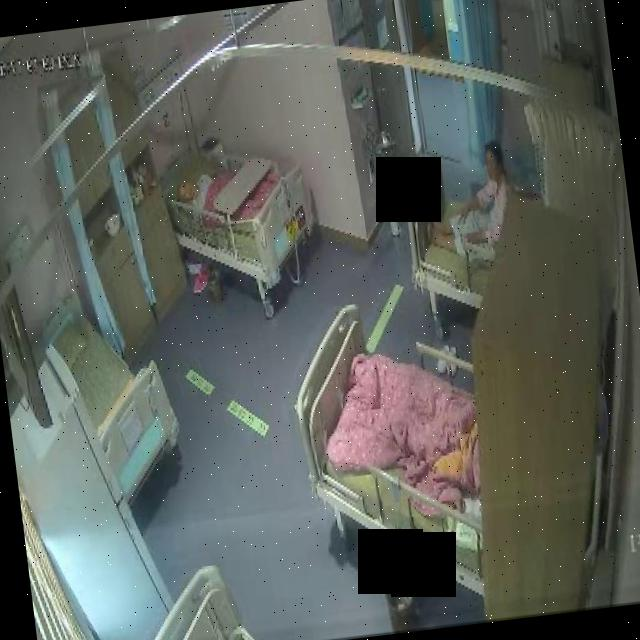bed: (290, 298, 496, 582), (158, 119, 318, 286), (44, 279, 172, 472), (396, 146, 509, 312)
patient: (418, 139, 518, 266), (175, 166, 224, 216)
sit: (416, 142, 518, 270)
